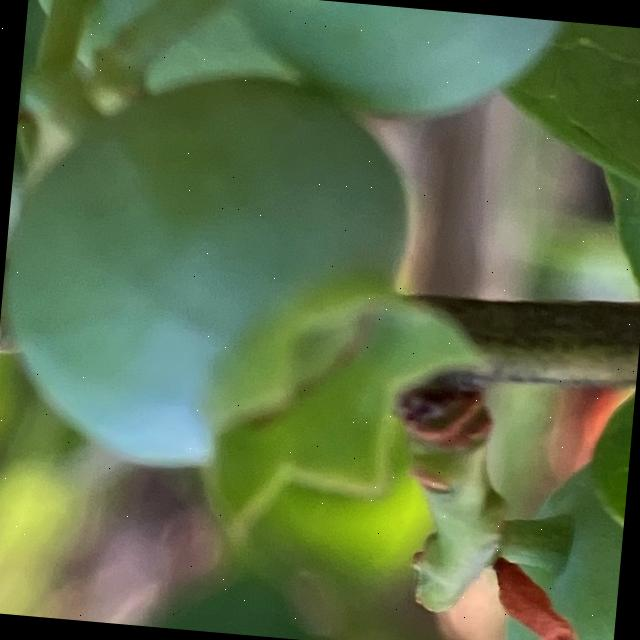Blueberries: (0, 43, 508, 595), (142, 0, 640, 148)
